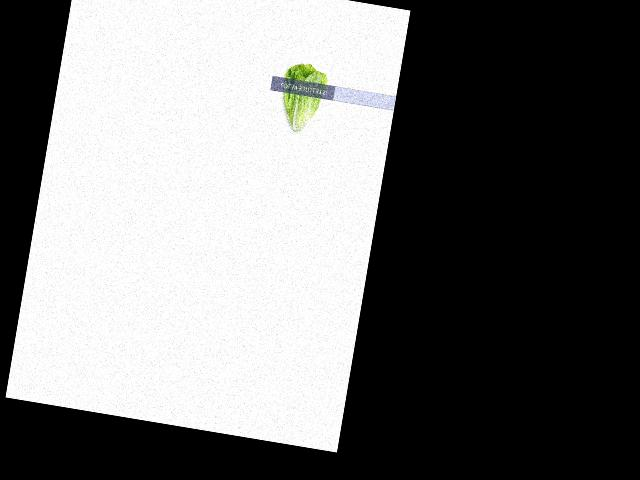lettuce: (271, 60, 331, 141)
